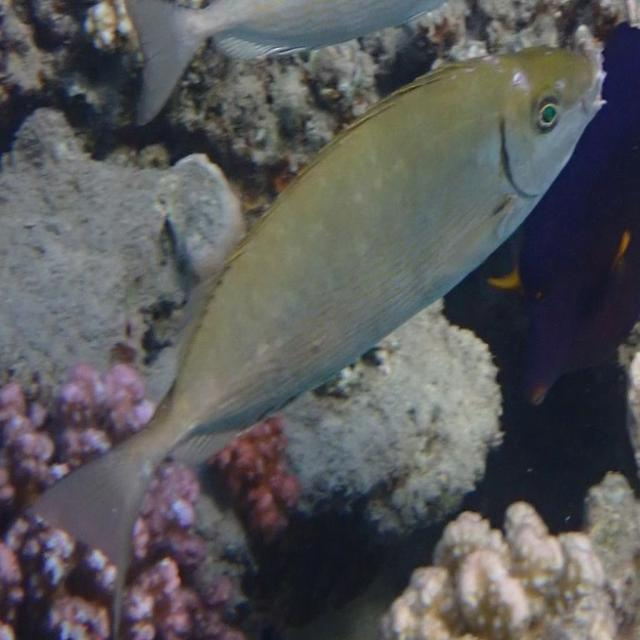Sokar Baligi: (27, 21, 626, 640)
